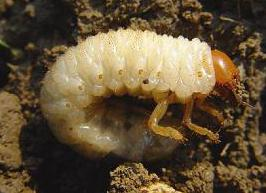grub: (40, 27, 251, 156)
